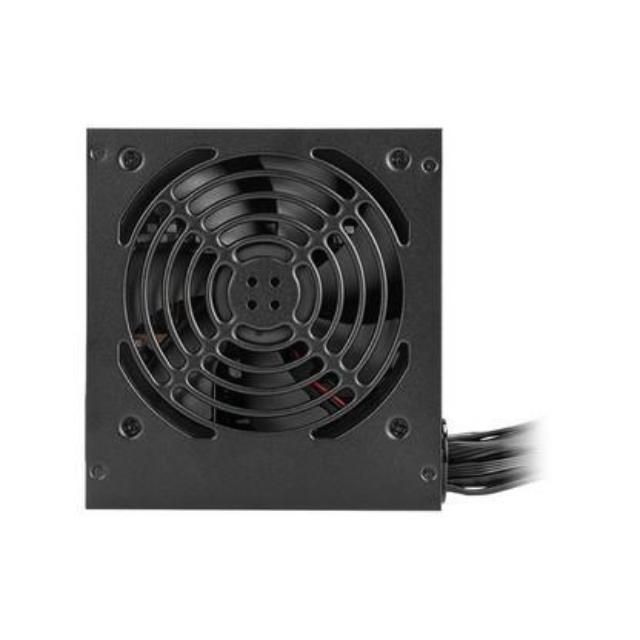PSU: (78, 121, 452, 527)
